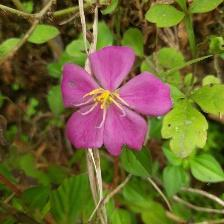malabar melastome: (62, 46, 176, 157)
